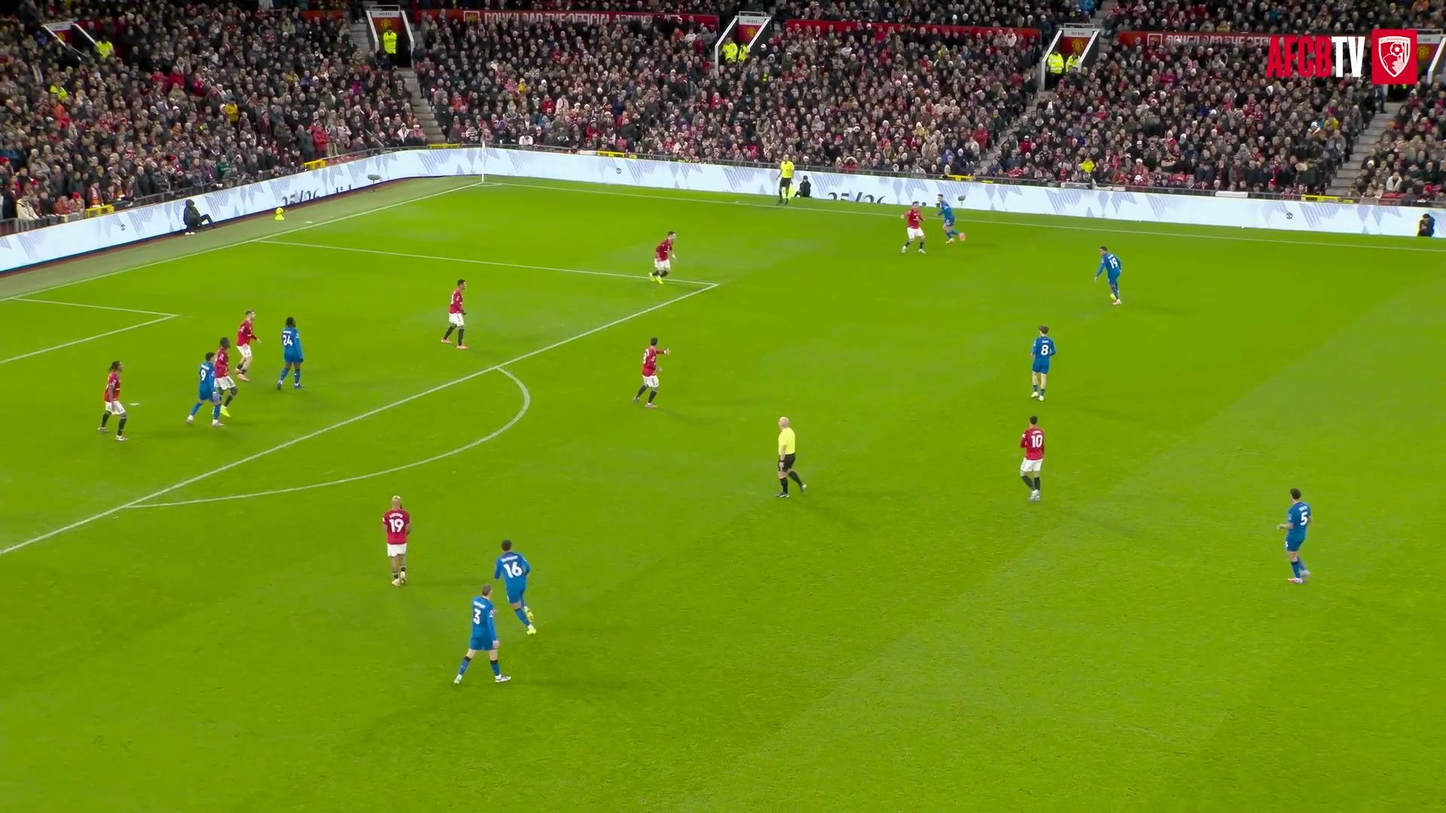player: (454, 584, 510, 684), (493, 540, 535, 634), (1277, 488, 1311, 583), (186, 352, 222, 426), (634, 337, 670, 408), (383, 498, 410, 586), (98, 360, 127, 439), (1020, 416, 1045, 499), (276, 316, 304, 388), (441, 279, 468, 348), (214, 336, 236, 417), (1032, 325, 1055, 400), (1094, 245, 1121, 305), (236, 310, 259, 380), (937, 193, 964, 242), (651, 230, 675, 283), (901, 204, 925, 252)
referee: (777, 417, 806, 498), (778, 155, 794, 204)
